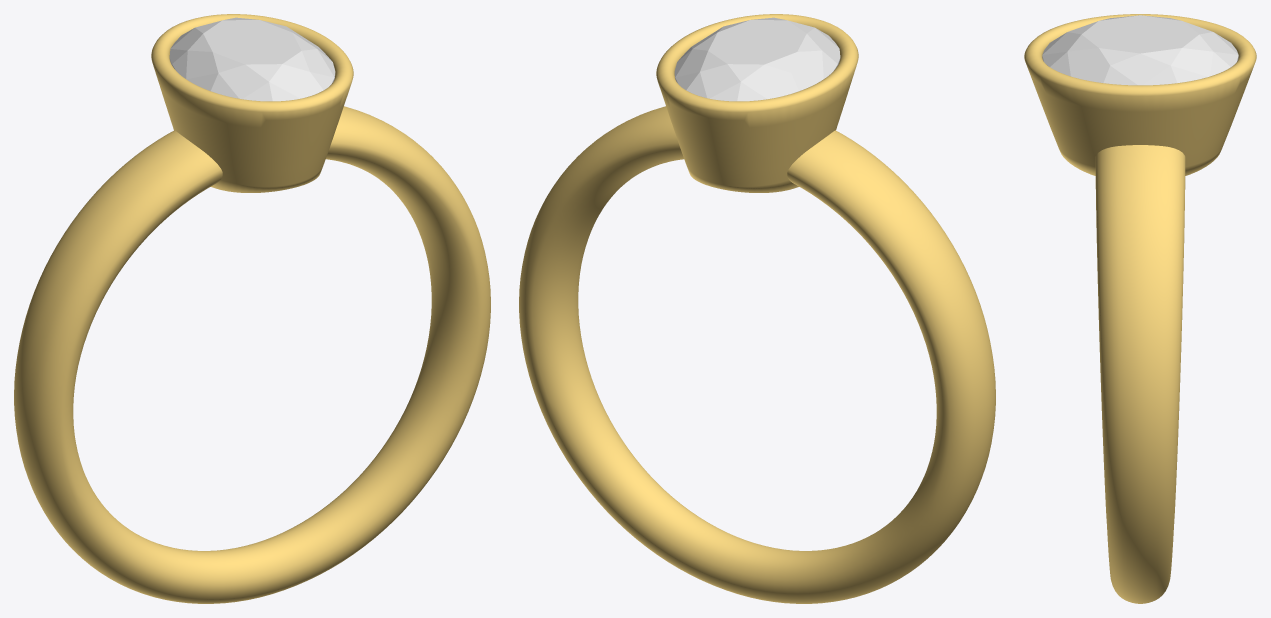
File: diamond-oval-yellowgold-bezelset-taperedband-nosidestones.glb
The picture shows the model from 3 angles, left to right: view 1: azimuth 30°, elevation 25°; view 2: azimuth 150°, elevation 25°; view 3: azimuth 270°, elevation 25°; orthographic projection.
Parts seen in each view (by area): view 1: metal, stone; view 2: metal, stone; view 3: metal, stone.
Part boxes in pixels (x1,y1,x2,y2): metal: [14, 14, 490, 603]; stone: [169, 17, 335, 101]; metal: [519, 14, 995, 603]; stone: [674, 17, 840, 101]; metal: [1024, 14, 1256, 603]; stone: [1042, 15, 1238, 85].
Size of the model in its own units: 20.48 by 23.4 by 9.04.
